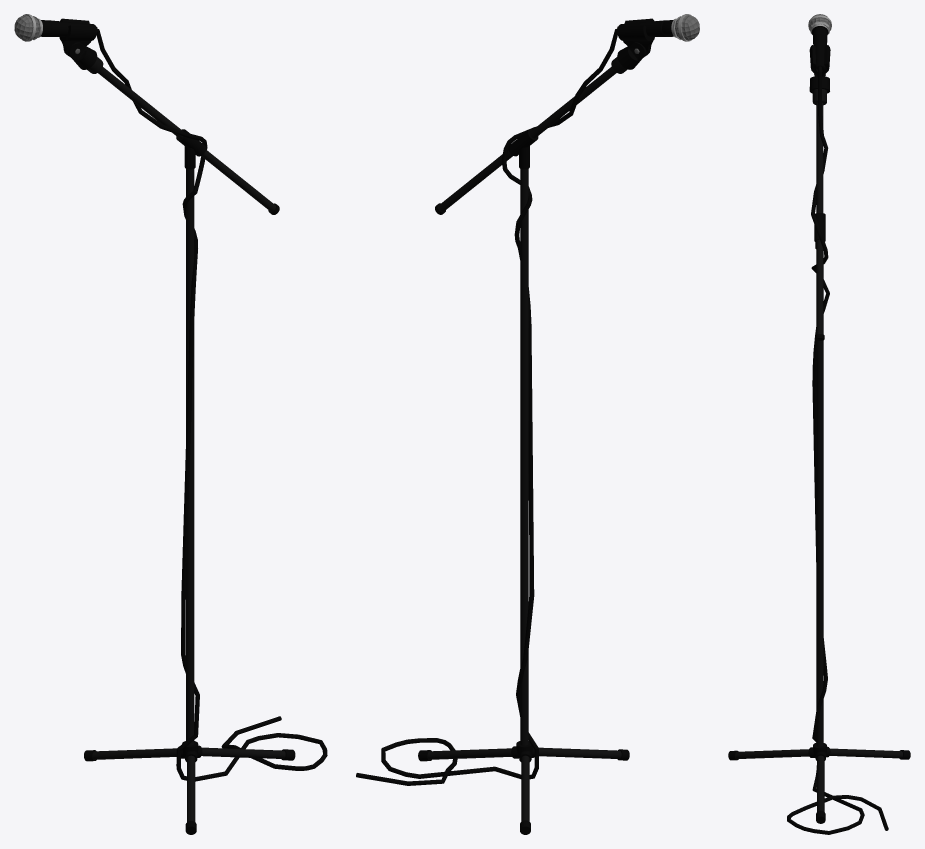
File: Venue_Mic_01.glb
The picture shows the model from 3 angles, left to right: view 1: azimuth 30°, elevation 25°; view 2: azimuth 150°, elevation 25°; view 3: azimuth 270°, elevation 25°; orthographic projection. The views are drawn at different scales.
Visible parts, largest first — view 1: Mesh_Venue_Mic_01; view 2: Mesh_Venue_Mic_01; view 3: Mesh_Venue_Mic_01.
Boxes of the visible parts, left/top/right/bottom form: Mesh_Venue_Mic_01: left=14, top=14, right=327, bottom=834; Mesh_Venue_Mic_01: left=356, top=14, right=699, bottom=834; Mesh_Venue_Mic_01: left=728, top=14, right=910, bottom=834.
Size of the model in its own units: 0.5871 by 1.46 by 0.3451.
Materials: 1 (1 with a texture image).
